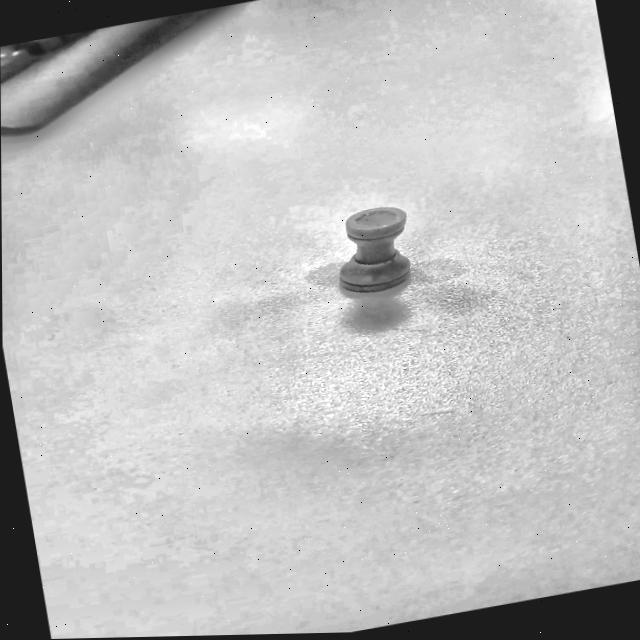white-rook: (341, 207, 410, 292)
